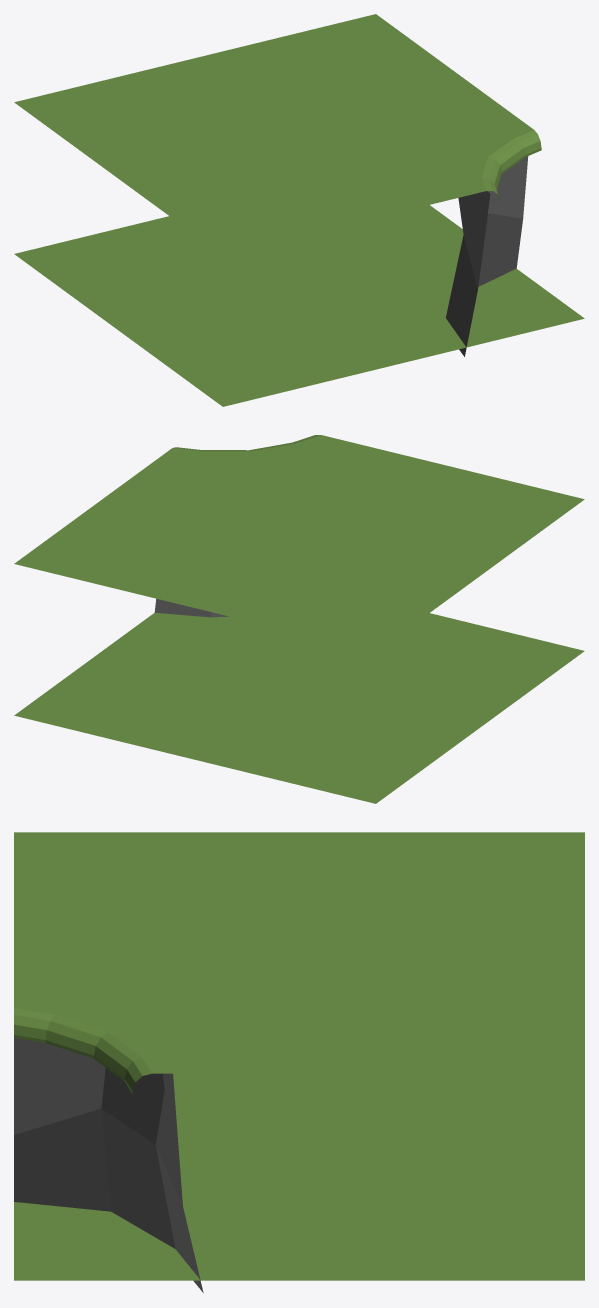
File: cliff_inner_corner.fbx
3 renders of one model, top to bottom at view 1: azimuth 30°, elevation 25°; view 2: azimuth 150°, elevation 25°; view 3: azimuth 270°, elevation 25°, orthographic. The views are drawn at different scales.
Parts seen in each view (by area): view 1: Plane.030; view 2: Plane.030; view 3: Plane.030.
Part boxes in pixels (bbox=[...]): Plane.030: bbox=[14, 14, 584, 406]; Plane.030: bbox=[14, 435, 584, 803]; Plane.030: bbox=[14, 832, 584, 1292].
Size of the model in its own units: 200 by 200 by 85.42.
